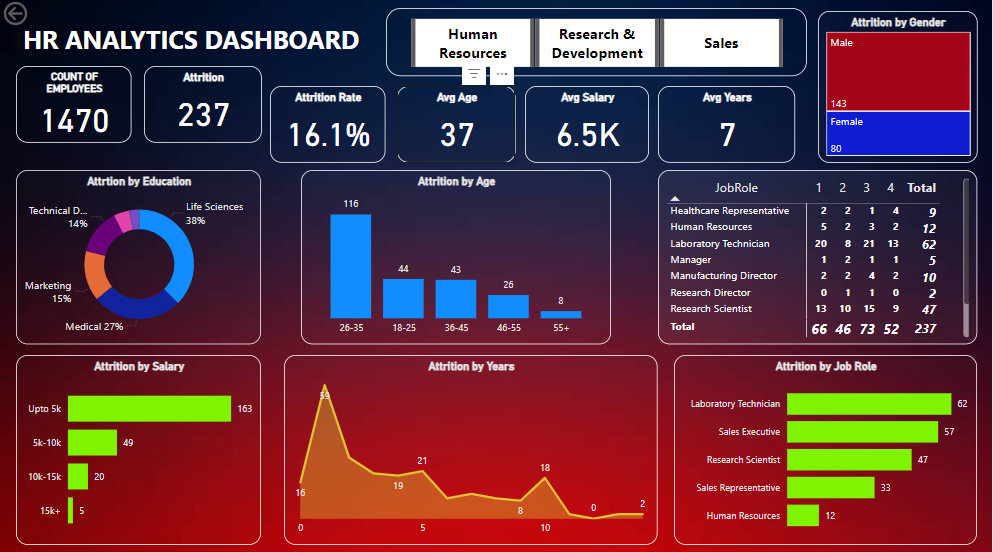

What the dashboard file says about the page in this screenshot:
{"tool":"powerbi","page":{"name":"Page 1","canvas":[1280,720],"ordinal":0},"visuals":[{"type":"card","title":"COUNT OF EMPLOYEES","fields":{"Values":["CountNonNull(HR_Analytics.EmpID)"]},"box":[21.3,87.9,148.8,99.2],"z":0},{"type":"card","title":"Avg Salary","fields":{"Values":["Avg(HR_Analytics.MonthlyIncome)"]},"box":[677.5,113.4,160.2,99.2],"z":1000},{"type":"card","title":"Avg  Age","fields":{"Values":["Avg(HR_Analytics.Age)"]},"box":[511.7,113.4,153.1,99.2],"z":2000},{"type":"card","title":"Attrition Rate","fields":{"Values":["HR_Analytics.Attrition Rate"]},"box":[348.7,113.4,148.8,99.2],"z":3000},{"type":"card","title":"Attrition","fields":{"Values":["Sum(HR_Analytics.Attriton count)"]},"box":[185.7,87.9,151.7,99.2],"z":4000},{"type":"card","title":"Avg Years","fields":{"Values":["Avg(HR_Analytics.YearsAtCompany)"]},"box":[849,113.4,177.2,99.2],"z":5000},{"type":"donutChart","title":"Attrtion by Education","fields":{"Category":["HR_Analytics.EducationField"],"Y":["Sum(HR_Analytics.Attriton count)"]},"box":[21.3,222.5,316.1,225.4],"z":6000},{"type":"columnChart","title":"Attrition by Age","fields":{"Category":["HR_Analytics.AgeGroup"],"Y":["Sum(HR_Analytics.Attriton count)"]},"box":[388.3,222.5,399.7,225.4],"z":7000},{"type":"pivotTable","fields":{"Rows":["HR_Analytics.JobRole"],"Columns":["HR_Analytics.JobSatisfaction"],"Values":["Sum(HR_Analytics.Attriton count)"]},"box":[849,222.5,412.4,225.4],"z":8000},{"type":"barChart","title":"Attrition by Salary","fields":{"Category":["HR_Analytics.SalarySlab"],"Y":["Sum(HR_Analytics.Attriton count)"]},"box":[21.3,460.6,316.1,245.2],"z":9000},{"type":"barChart","title":"Attrition by Job Role","fields":{"Category":["HR_Analytics.JobRole"],"Y":["Sum(HR_Analytics.Attriton count)"]},"box":[870.2,460.6,391.2,245.2],"z":10000},{"type":"areaChart","title":"Attrition by  Years","fields":{"Category":["HR_Analytics.YearsAtCompany"],"Y":["Sum(HR_Analytics.Attriton count)"]},"box":[367.1,460.6,481.9,245.2],"z":11000},{"type":"treemap","title":"Attrition by Gender","fields":{"Group":["HR_Analytics.Gender"],"Values":["Sum(HR_Analytics.Attriton count)"]},"box":[1055.9,17,205.5,195.6],"z":12000},{"type":"slicer","fields":{"Values":["HR_Analytics.Department"]},"box":[497.5,12.8,542.8,87.9],"z":13000},{"type":"textbox","box":[24.1,25.5,463.5,62.4],"z":14000},{"type":"actionButton","box":[0,0,100,40],"z":15000}]}

Visuals, with their boxes in screenshot pixels (x1, y1, x2, y2), scaled from the page's 1280x720 canvas onto the 993x552 screenshot:
"COUNT OF EMPLOYEES" card: (17, 67, 132, 143)
"Avg Salary" card: (526, 87, 650, 163)
"Avg  Age" card: (397, 87, 516, 163)
"Attrition Rate" card: (271, 87, 386, 163)
"Attrition" card: (144, 67, 262, 143)
"Avg Years" card: (659, 87, 796, 163)
"Attrtion by Education" donutChart: (17, 171, 262, 343)
"Attrition by Age" columnChart: (301, 171, 611, 343)
pivotTable - HR_Analytics.JobRole x HR_Analytics.JobSatisfaction: (659, 171, 979, 343)
"Attrition by Salary" barChart: (17, 353, 262, 541)
"Attrition by Job Role" barChart: (675, 353, 979, 541)
"Attrition by  Years" areaChart: (285, 353, 659, 541)
"Attrition by Gender" treemap: (819, 13, 979, 163)
slicer - HR_Analytics.Department: (386, 10, 807, 77)
textbox: (19, 20, 378, 67)
actionButton: (0, 0, 78, 31)
